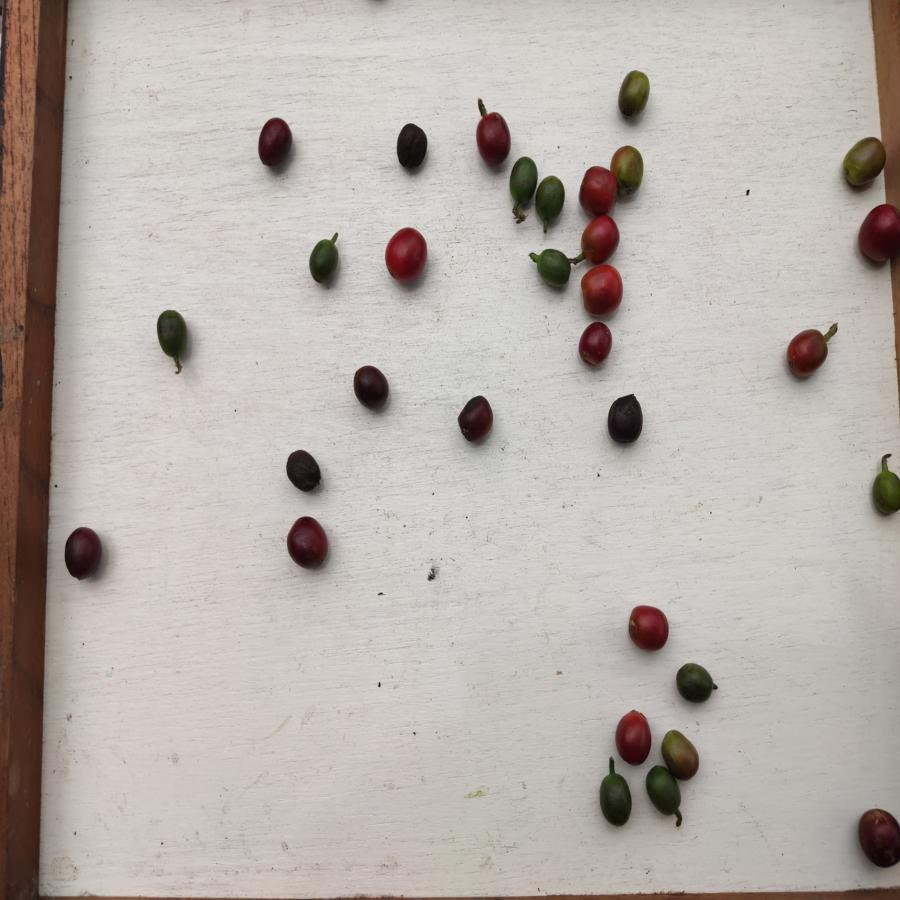Inmaduro: (596, 768, 634, 827), (644, 762, 677, 825), (528, 248, 572, 292), (671, 662, 716, 705), (870, 459, 900, 519), (154, 309, 190, 357), (307, 239, 342, 286), (534, 174, 567, 221), (508, 156, 538, 206)
Maduro: (384, 224, 429, 284), (580, 262, 626, 315), (579, 213, 622, 266), (786, 327, 827, 381), (627, 603, 671, 652), (616, 711, 652, 767), (577, 164, 614, 213), (578, 321, 615, 365)
Pinton: (843, 135, 884, 187), (662, 727, 700, 778), (616, 70, 650, 117), (614, 146, 644, 197)
Sobremaduro: (857, 202, 900, 267), (857, 808, 900, 870), (285, 514, 328, 570), (474, 110, 513, 166), (255, 117, 294, 171), (64, 524, 100, 582), (456, 395, 497, 444), (606, 393, 642, 445), (351, 365, 391, 409), (285, 448, 322, 492), (394, 124, 428, 171)
